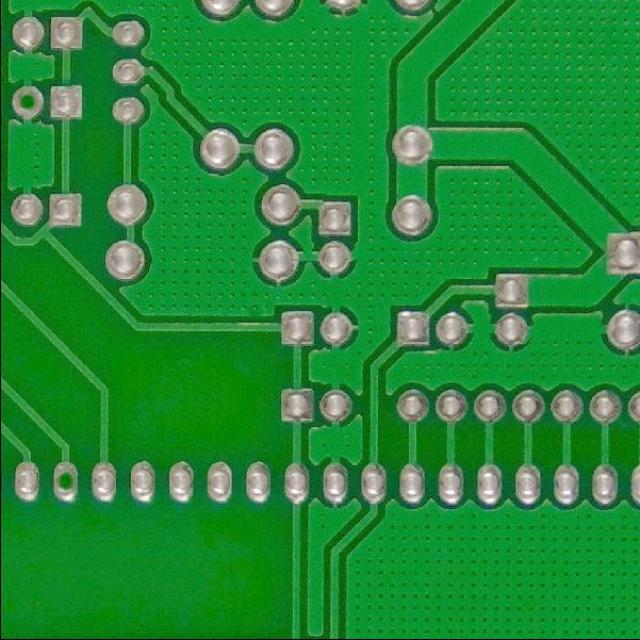Missing_Hole: (6, 81, 48, 121), (47, 458, 83, 504)
